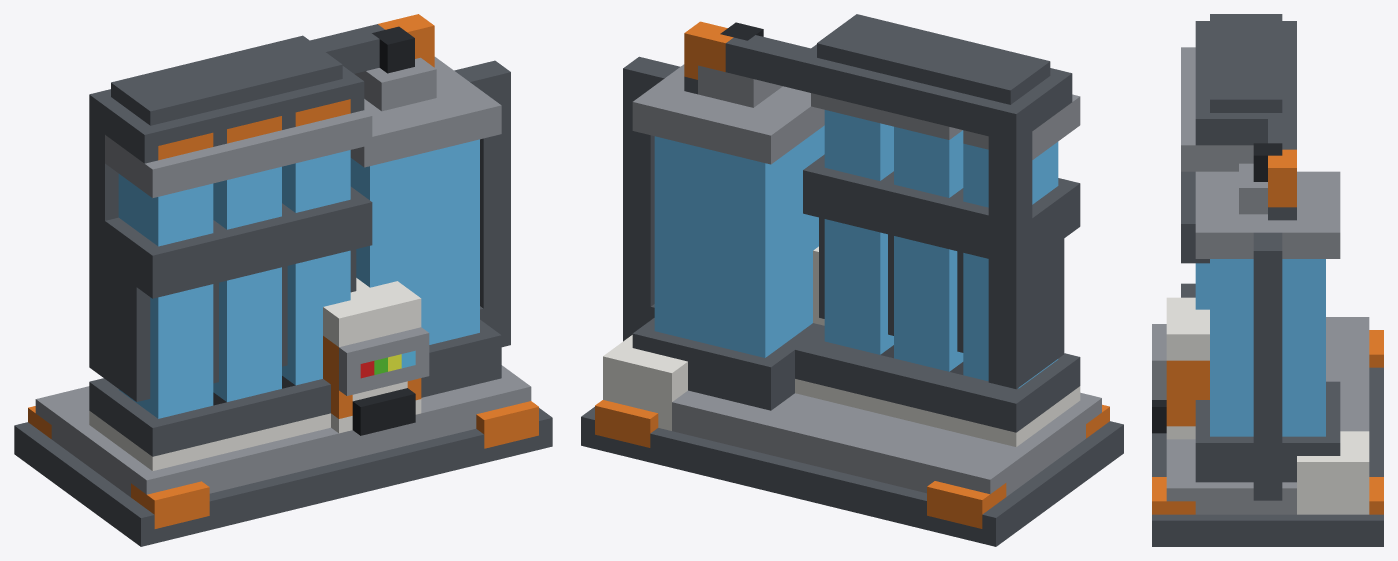
Rendered from water_purification_system.obj.
3 renders of one model, left to right at view 1: azimuth 30°, elevation 25°; view 2: azimuth 150°, elevation 25°; view 3: azimuth 270°, elevation 25°, orthographic. The views are drawn at different scales.
Bounding box in the file's own units: 3.1 × 2.8 × 1.6.
Materials: 1 (1 with a texture image).
